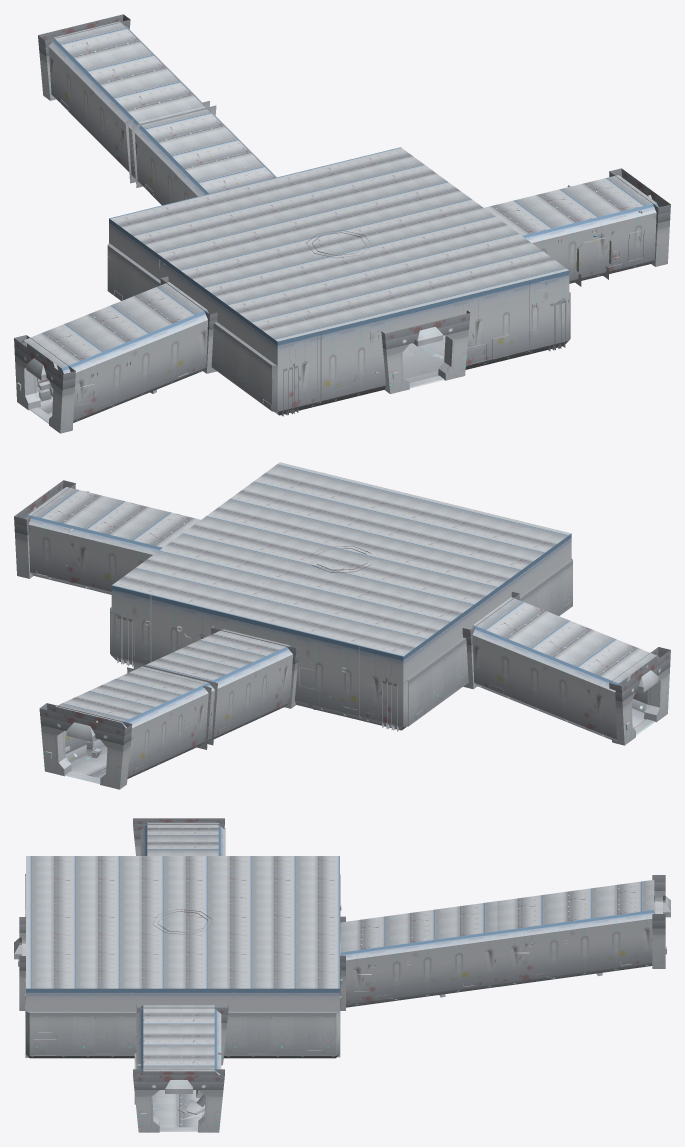
Rendered from Combined_Mesh_root_scene__11_1f1e19ed__ZombiesII_laboratory_01_d_47037629_c1f257.obj.
3 renders of one model, top to bottom at view 1: azimuth 30°, elevation 25°; view 2: azimuth 150°, elevation 25°; view 3: azimuth 270°, elevation 25°, orthographic. The views are drawn at different scales.
Size of the model in its own units: 84.66 by 16.88 by 83.67.
Materials: 291 (291 with a texture image).
